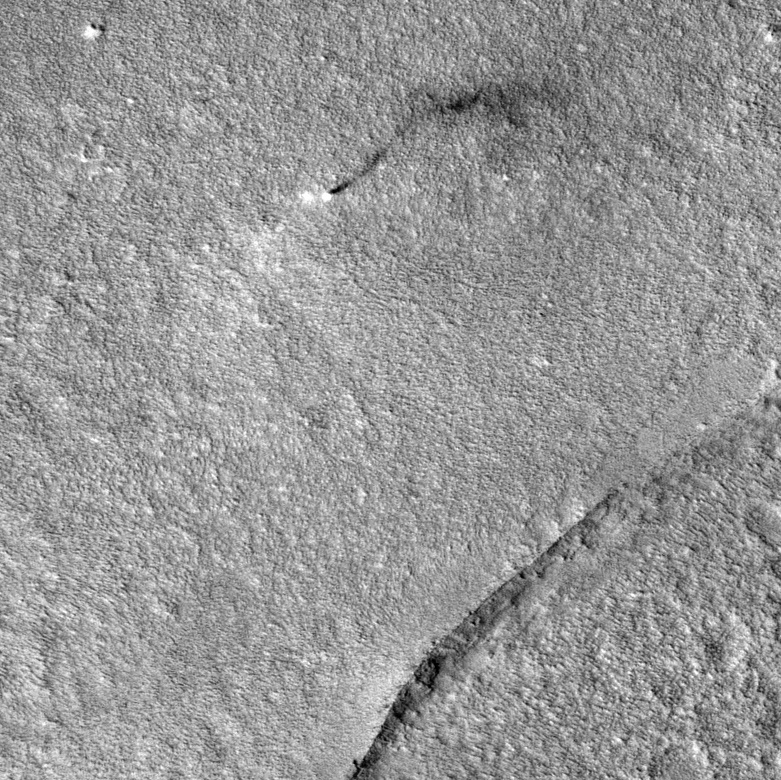dust_devil: (299, 74, 561, 206)
